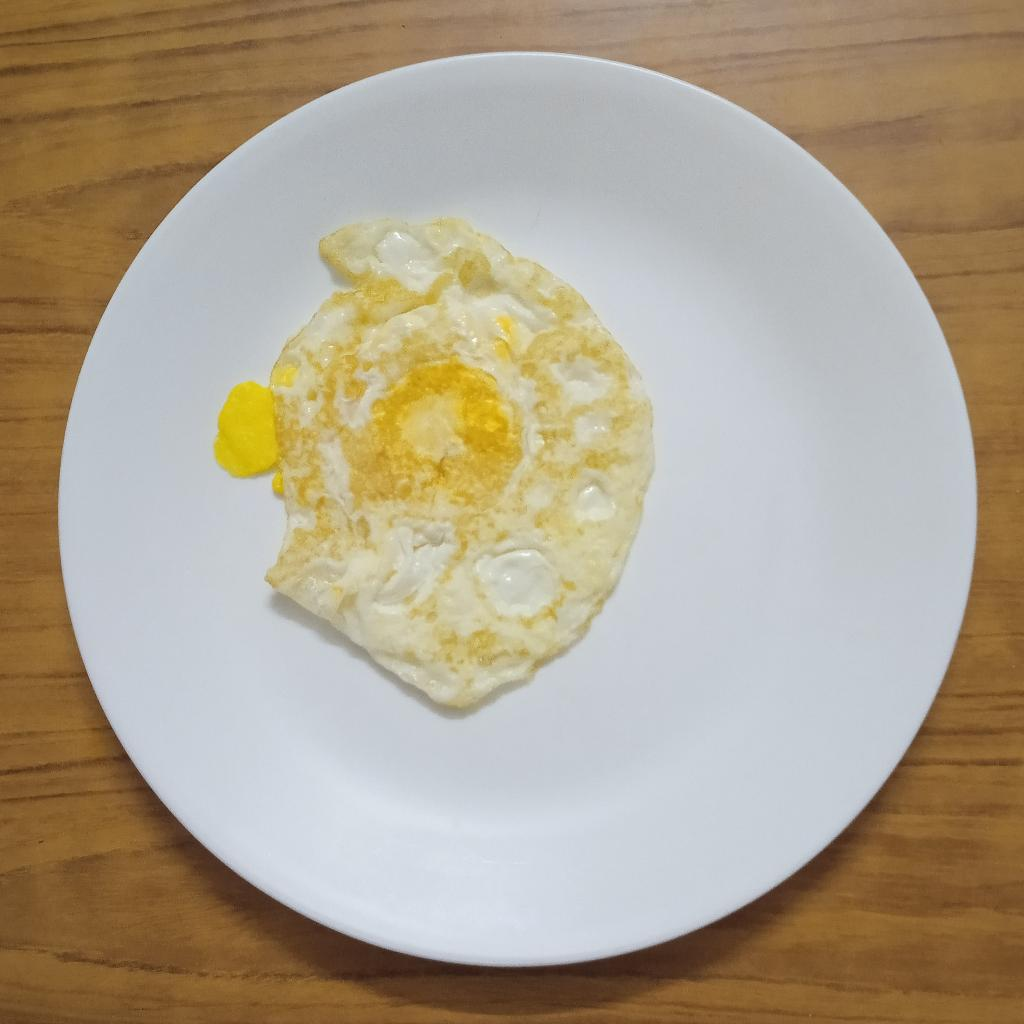egg-poached: (213, 217, 655, 711)
